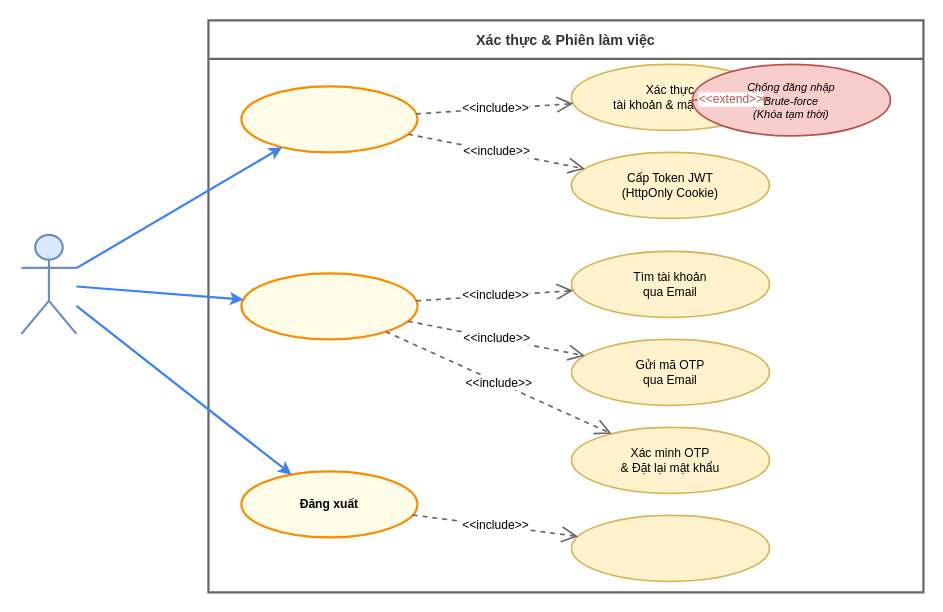
This 943x612 diagram has some shape labels left out. The box of each missing label's shape, as (x1, y1, x2, y2) in pixels:
Nhân Viên (Staff): (20, 233, 77, 334)
Quên mật khẩu: (240, 272, 418, 340)
Xóa Cookie & Kết thúc phiên: (570, 514, 770, 582)
Đăng nhập: (240, 85, 418, 153)
